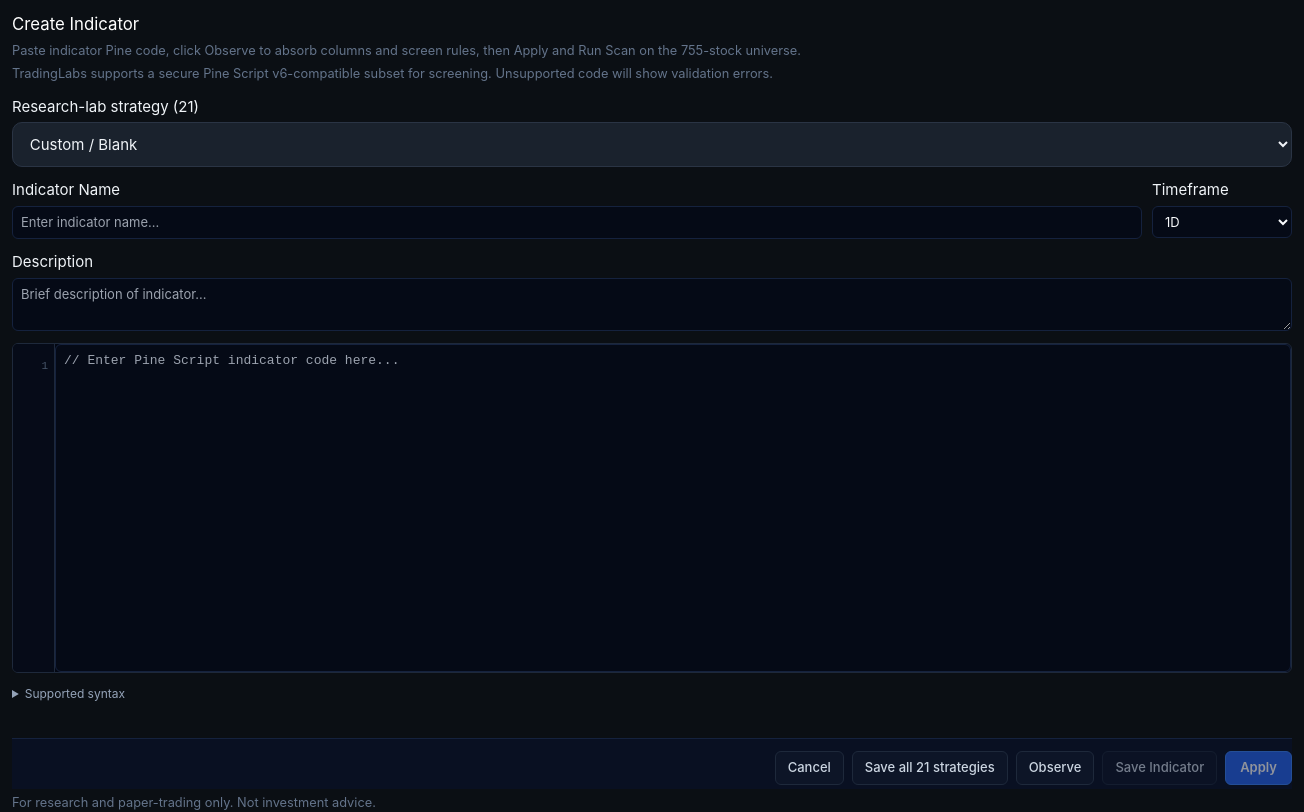
IndicatorEditorPanel › displays error banner when clicking Observe with empty code
Click the button with test id "btn-validate-indicator".
click(1055, 768)  # box 1016,751 -> 1094,785
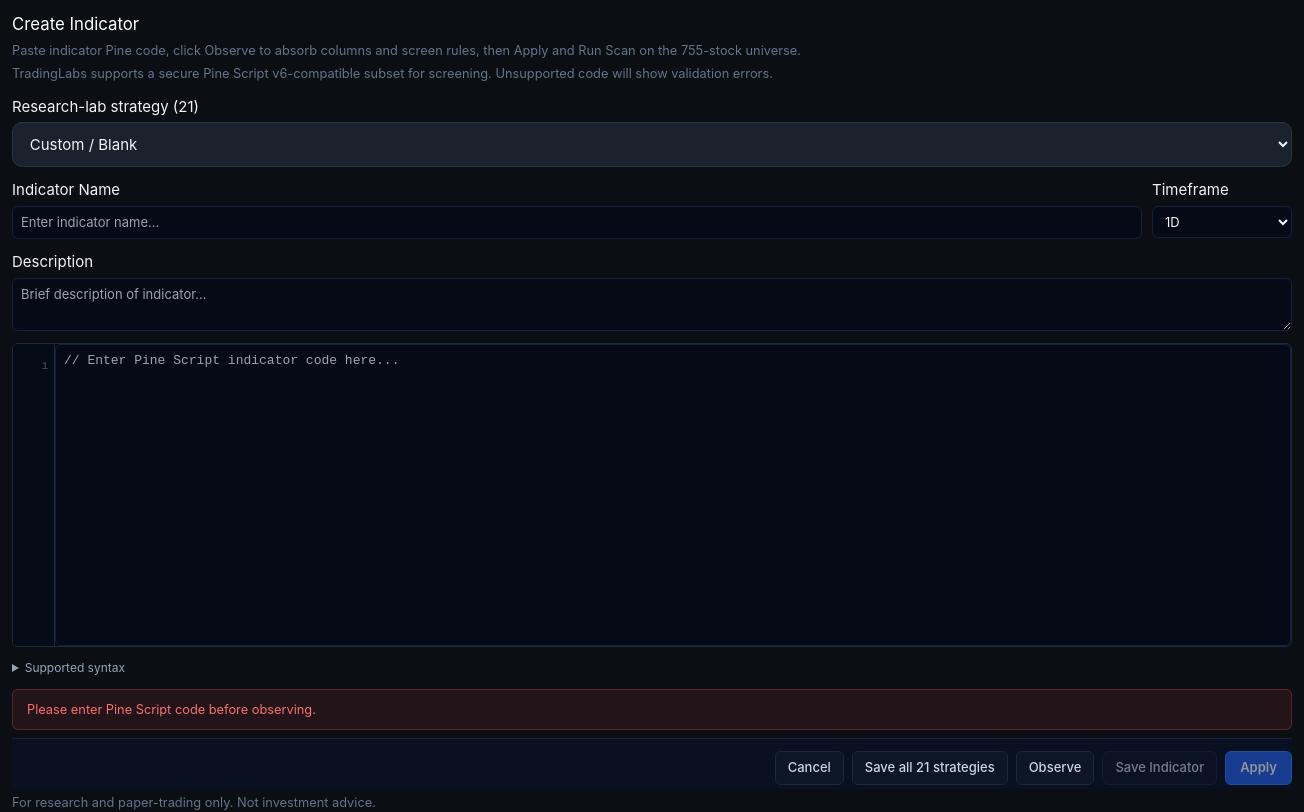
Check: the text with test id "indicator-error-banner" shows "Please enter Pine Script code before observing", box 27,702 -> 316,717
